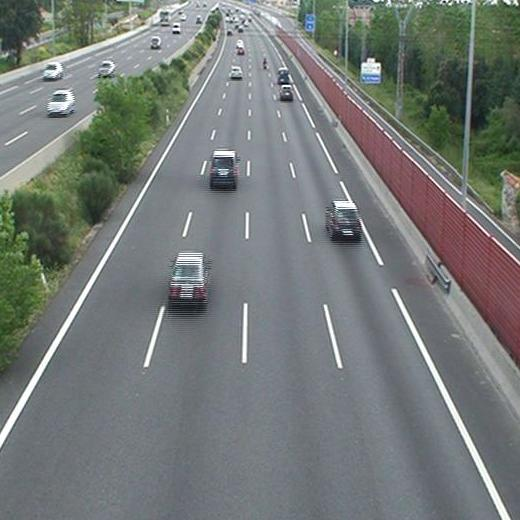car: (169, 253, 206, 303), (326, 202, 360, 237), (211, 153, 237, 185), (230, 66, 243, 79), (280, 85, 292, 98), (234, 46, 243, 53)
motorcycle: (261, 56, 268, 69)
van: (277, 67, 289, 84)
